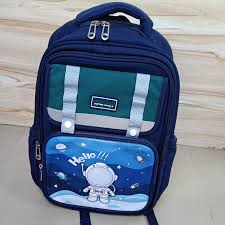bag: (30, 1, 185, 216)
